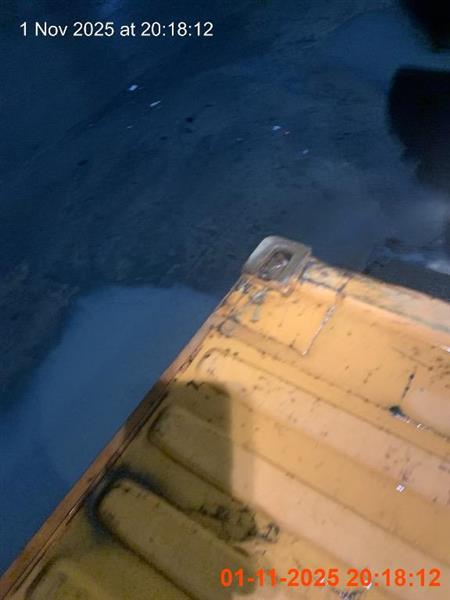broken: (1, 234, 448, 598)
